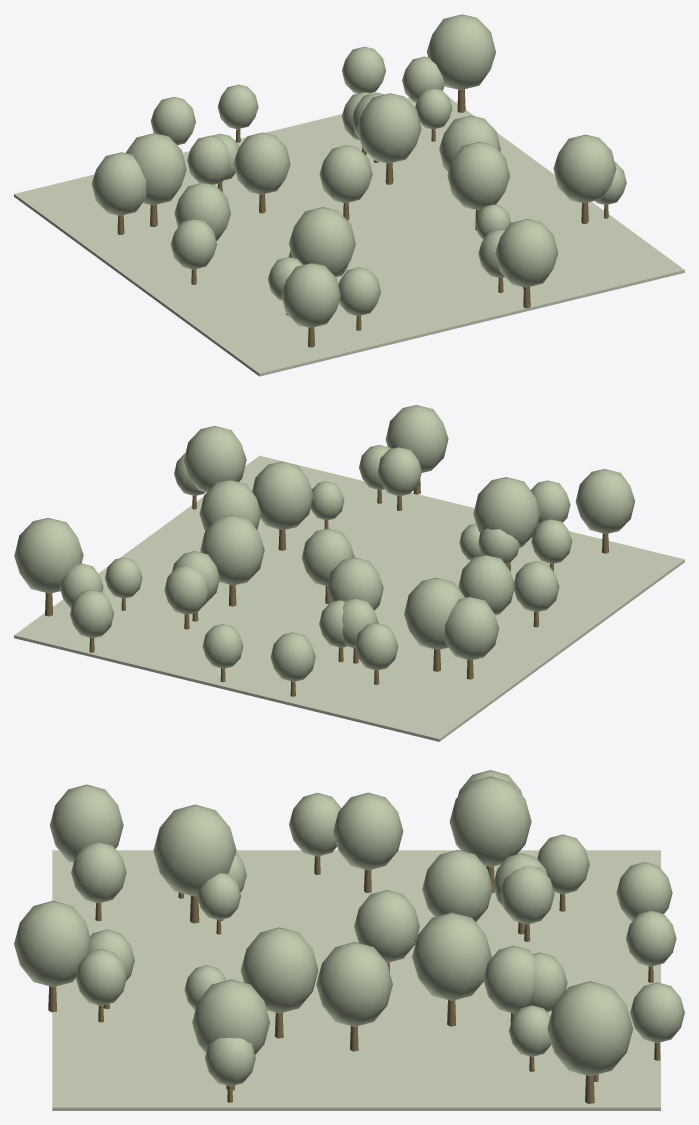
The picture shows the model from 3 angles, top to bottom: view 1: azimuth 30°, elevation 25°; view 2: azimuth 150°, elevation 25°; view 3: azimuth 270°, elevation 25°; orthographic projection. The views are drawn at different scales.
Parts seen in each view (by area): view 1: terrain, lod-near-1, lod-near-7, lod-near-20, lod-near-10, lod-near-5, lod-near-22, lod-near-18, lod-near-3, lod-near-13, lod-near-17, lod-near-6 (+14 smaller); view 2: terrain, lod-near-1, lod-near-7, lod-near-5, lod-near-22, lod-near-10, lod-near-18, lod-near-3, lod-near-20, lod-near-17, lod-near-29, lod-near-13 (+21 smaller); view 3: terrain, lod-near-1, lod-near-5, lod-near-3, lod-near-7, lod-near-20, lod-near-23, lod-near-22, lod-near-29, lod-near-10, lod-near-18, lod-near-13 (+17 smaller).
Part boxes in pixels (x1,y1,x2,y2): terrain: (14,97,684,376); lod-near-1: (426,14,495,89); lod-near-7: (357,93,421,163); lod-near-20: (495,219,558,287); lod-near-10: (553,134,616,203); lod-near-5: (289,207,355,276); lod-near-22: (447,141,510,210); lod-near-18: (281,263,340,327); lod-near-3: (126,133,186,205); lod-near-13: (233,132,290,194); lod-near-17: (91,152,146,215); lod-near-6: (319,145,372,203); terrain: (14,455,684,741); lod-near-1: (14,518,83,593); lod-near-7: (200,515,264,585); lod-near-5: (473,477,540,547); lod-near-22: (252,461,313,529); lod-near-10: (183,426,246,492); lod-near-18: (575,469,634,533); lod-near-3: (404,578,464,649); lod-near-20: (385,405,448,472); lod-near-17: (444,596,499,660); lod-near-29: (458,555,514,614); lod-near-13: (327,557,383,610); terrain: (52,850,660,1110); lod-near-1: (547,981,633,1076); lod-near-5: (153,804,236,896); lod-near-3: (449,776,531,867); lod-near-7: (412,912,491,1000); lod-near-20: (14,900,91,987); lod-near-23: (316,942,392,1026); lod-near-22: (240,927,318,1013); lod-near-29: (333,792,403,870); lod-near-10: (192,979,270,1054); lod-near-18: (50,784,123,862); lod-near-13: (422,849,492,921).
Size of the model in its own units: 33.78 by 7.14 by 35.28.
